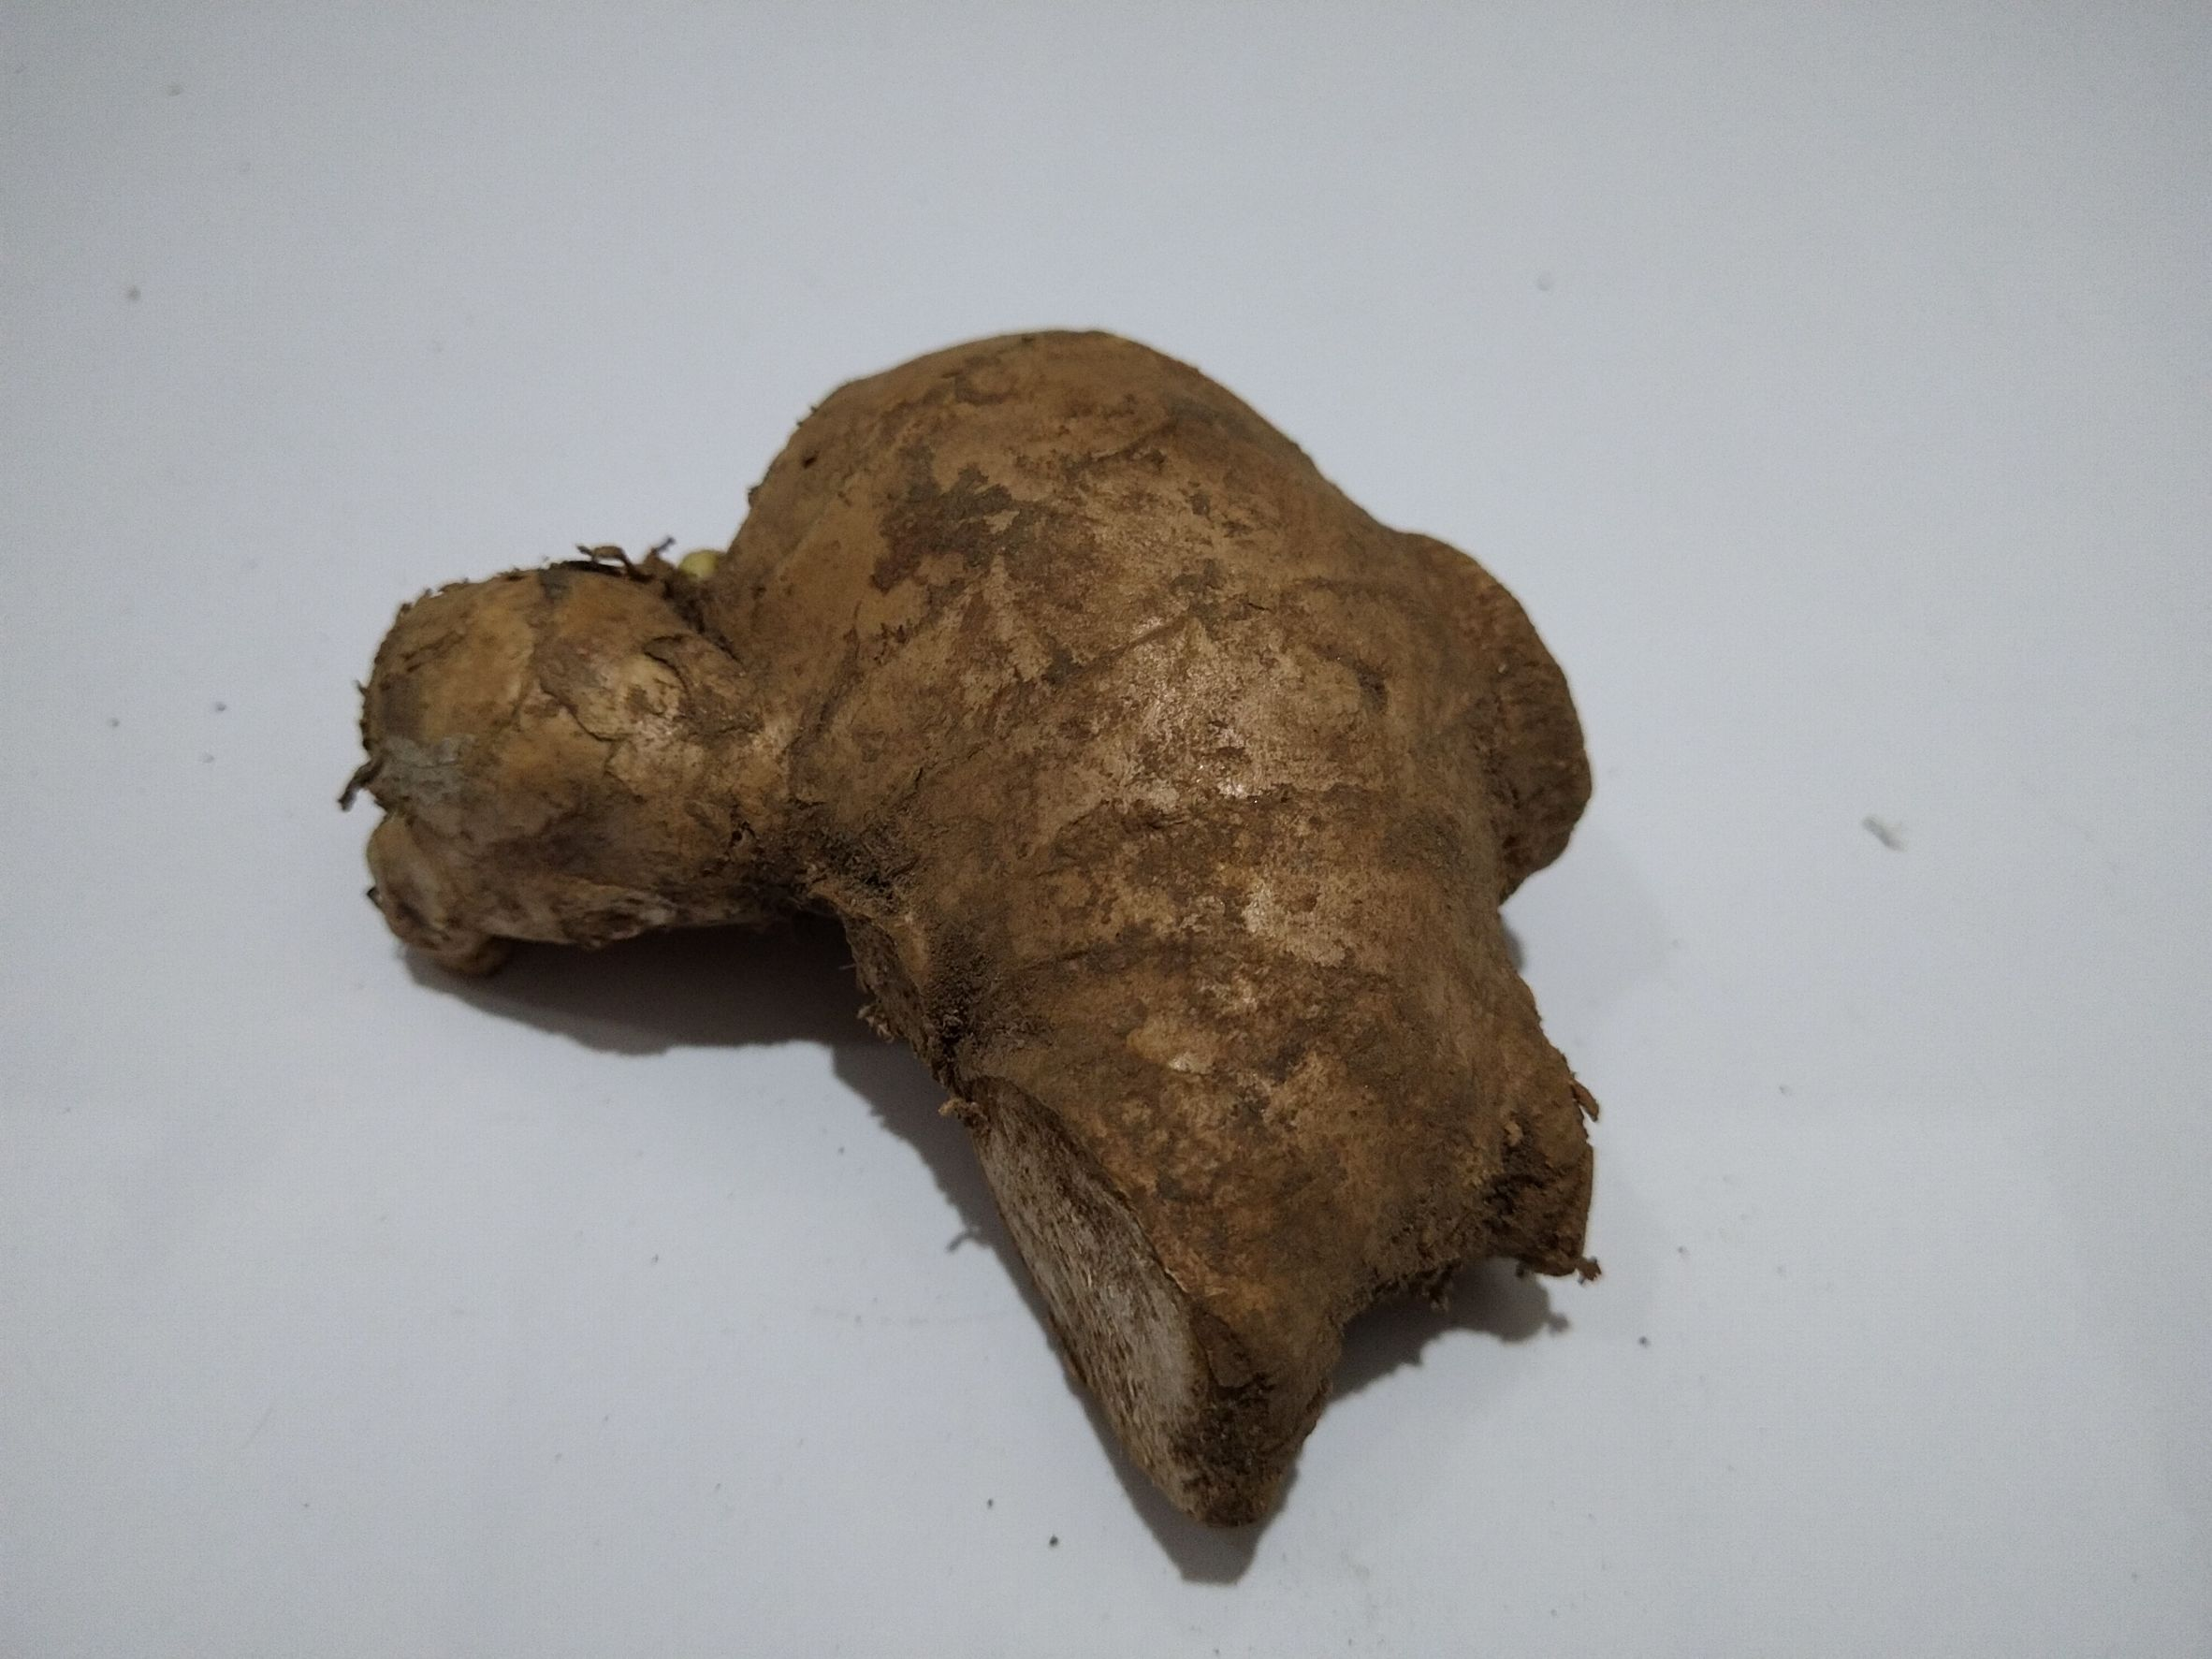Jahe: (381, 326, 1615, 1547)
